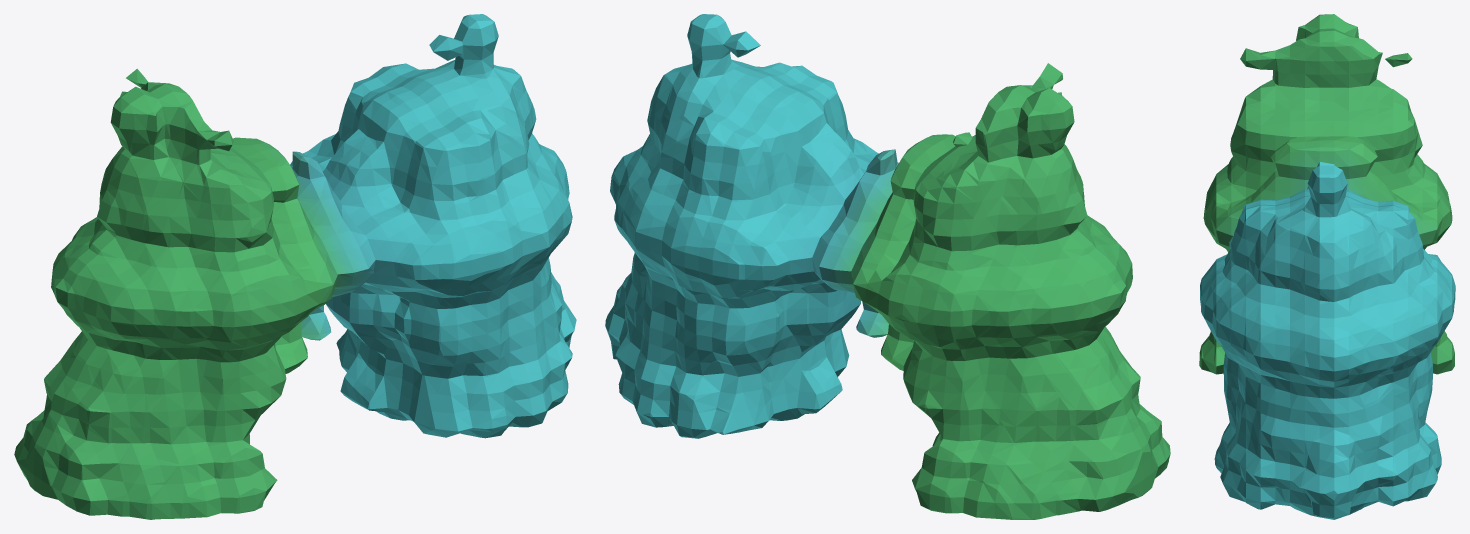
3 views of the same model, side by side, from view 1: azimuth 30°, elevation 25°; view 2: azimuth 150°, elevation 25°; view 3: azimuth 270°, elevation 25° (orthographic). The views are drawn at different scales.
Visible parts, largest first — view 1: geometry_0; view 2: geometry_0; view 3: geometry_0.
Part boxes in pixels (x1,y1,x2,y2): geometry_0: [14, 14, 576, 519]; geometry_0: [605, 14, 1170, 519]; geometry_0: [1199, 14, 1455, 519].
Bounding box in the file's own units: 1.58 × 1.14 × 0.7403.
